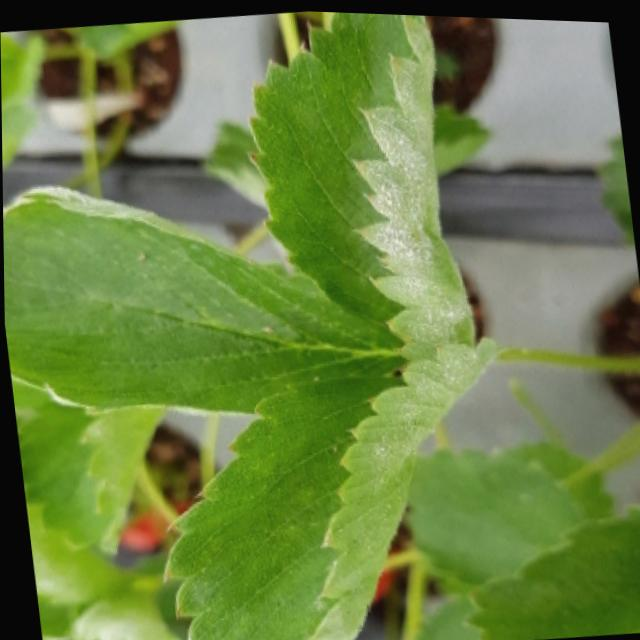Powdery Mildew Leaf: (159, 331, 499, 640), (2, 180, 400, 415), (244, 10, 471, 358)
